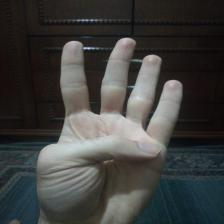four: (28, 34, 190, 221)
